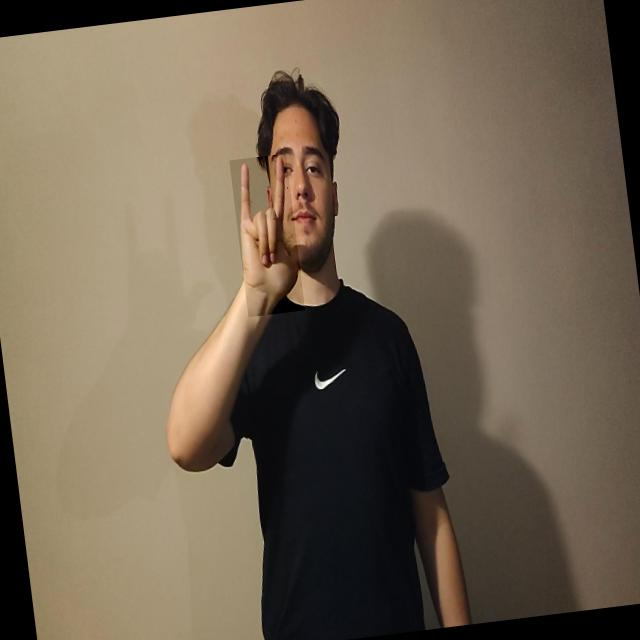iloveyou: (229, 152, 306, 316)
